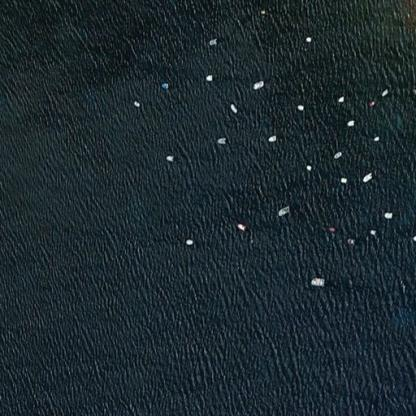ship: (275, 203, 291, 217), (309, 274, 326, 287), (250, 77, 266, 90), (181, 235, 196, 248), (342, 116, 357, 128), (233, 220, 246, 232), (362, 168, 372, 182), (381, 205, 393, 216), (266, 132, 278, 143), (226, 102, 237, 114), (330, 148, 341, 159), (215, 135, 226, 146), (324, 224, 337, 233), (164, 153, 175, 163), (380, 81, 389, 93), (337, 174, 349, 183), (367, 226, 378, 235), (202, 37, 214, 45), (204, 29, 212, 41), (291, 102, 300, 112), (130, 98, 140, 107), (332, 94, 340, 103), (304, 161, 312, 170), (159, 81, 168, 89), (343, 239, 356, 243), (369, 98, 372, 107), (411, 235, 415, 239), (368, 137, 380, 138), (260, 9, 263, 12), (307, 37, 309, 40)
